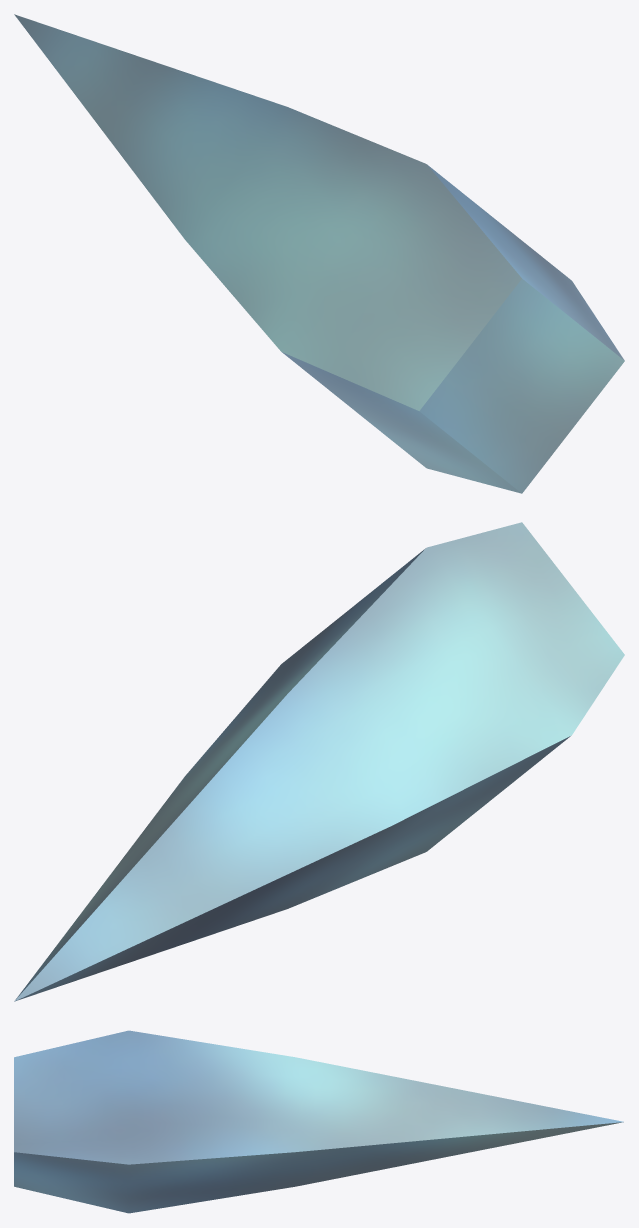
The model's file is SM_FrostStaffIcicleProjectile.fbx.
3 renders of one model, top to bottom at view 1: azimuth 30°, elevation 25°; view 2: azimuth 150°, elevation 25°; view 3: azimuth 270°, elevation 25°, orthographic. The views are drawn at different scales.
Visible parts, largest first — view 1: SM_FrostStaffIcicleProjectile; view 2: SM_FrostStaffIcicleProjectile; view 3: SM_FrostStaffIcicleProjectile.
Part boxes in pixels (box(x1,y1,x2,y2)): SM_FrostStaffIcicleProjectile: box(14, 14, 624, 493); SM_FrostStaffIcicleProjectile: box(14, 522, 624, 1001); SM_FrostStaffIcicleProjectile: box(14, 1030, 623, 1213).
Bounding box in the file's own units: 25.78 × 25.78 × 78.01.
